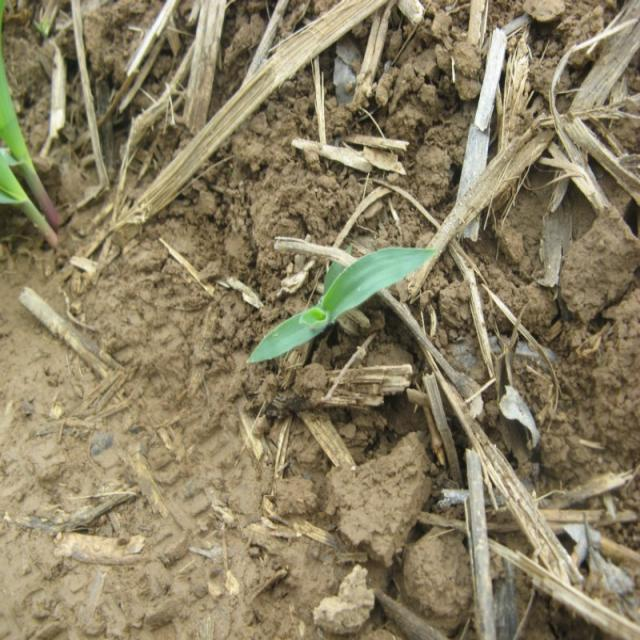bg: (242, 243, 439, 365)
